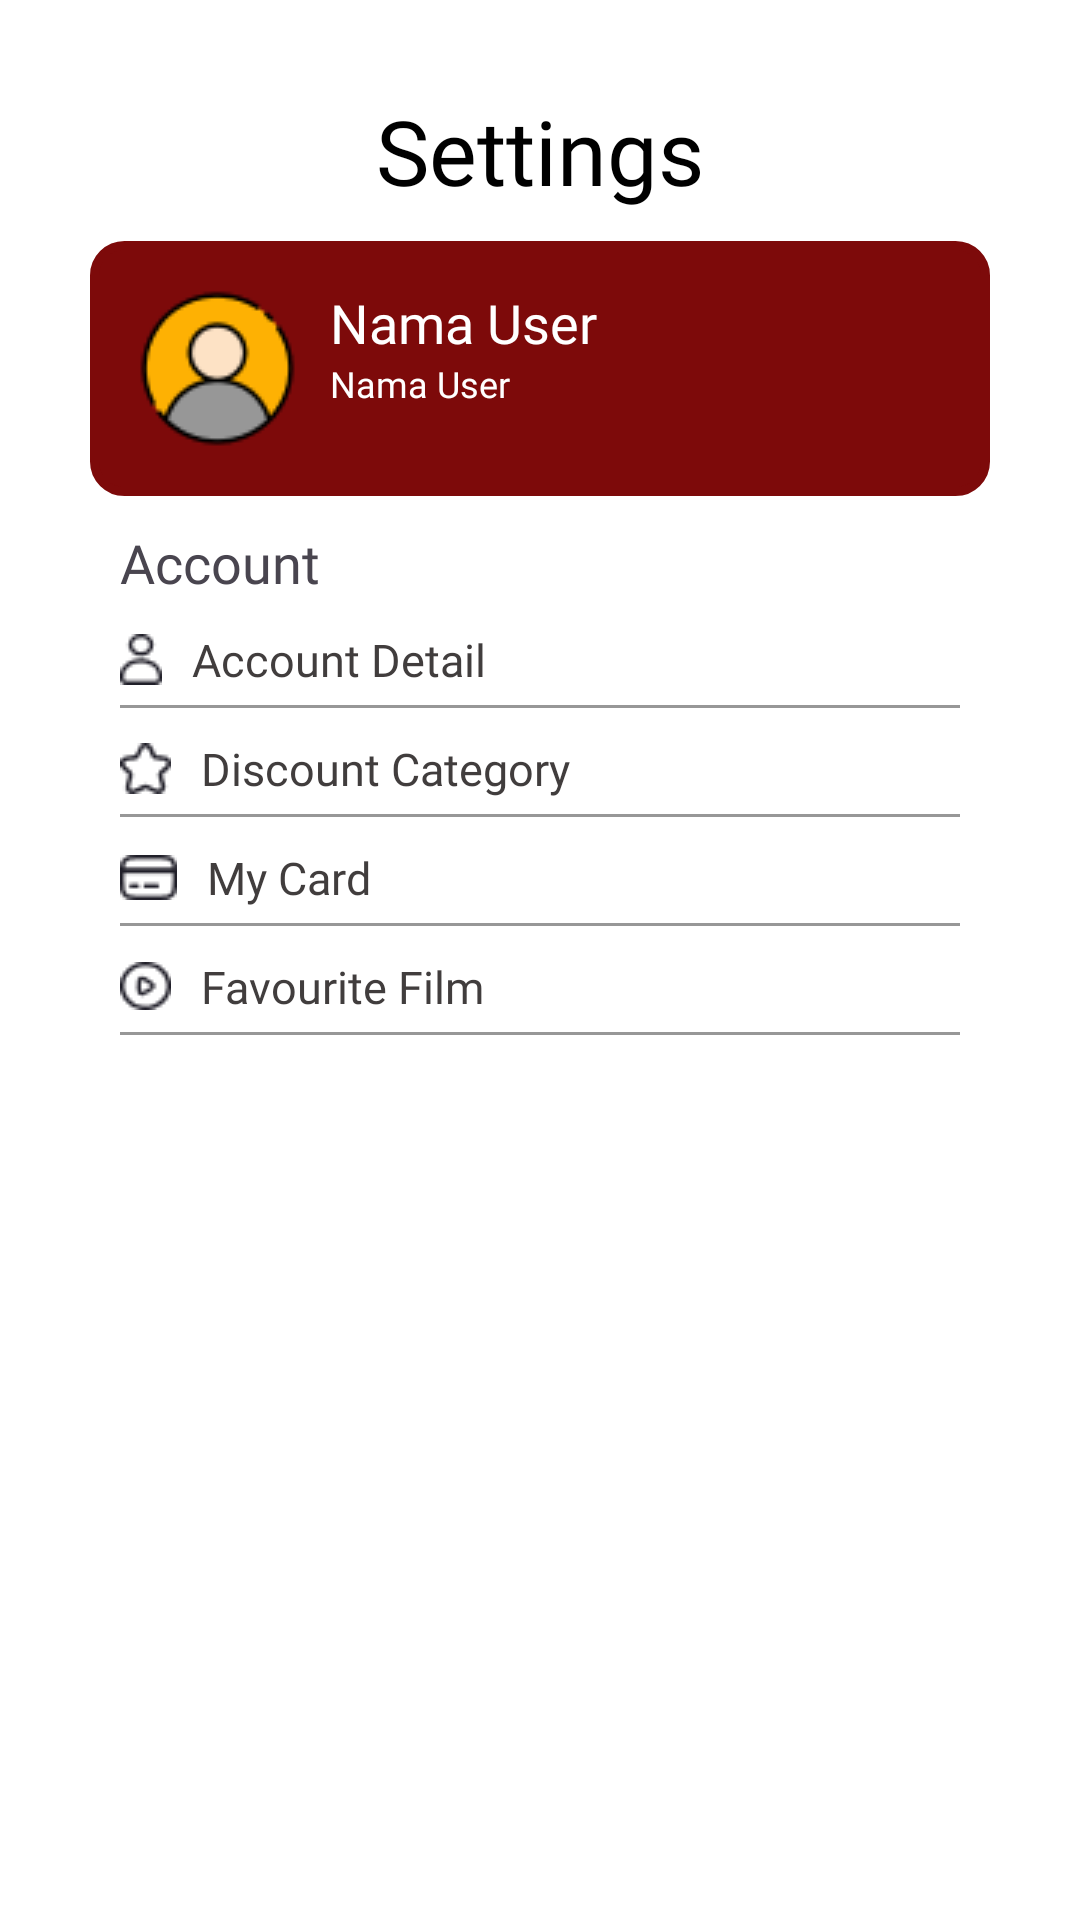

Locate icon controls on the screen. Image size 1080w x 1920h, boxes as (x1, y1, x2, y2).
profile: (140, 291, 295, 445)
